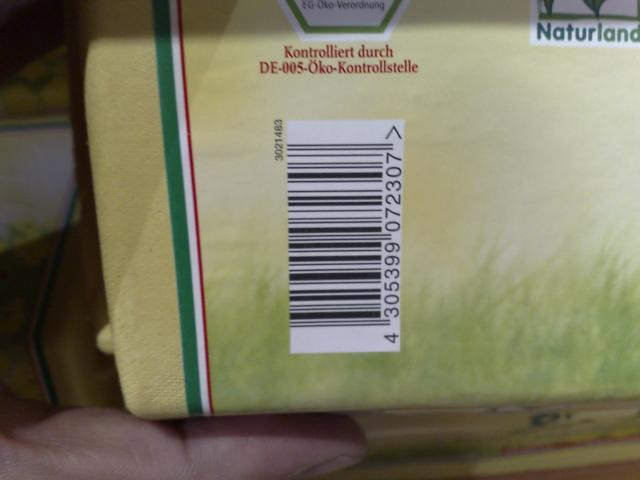Barcode: (282, 116, 404, 351)
